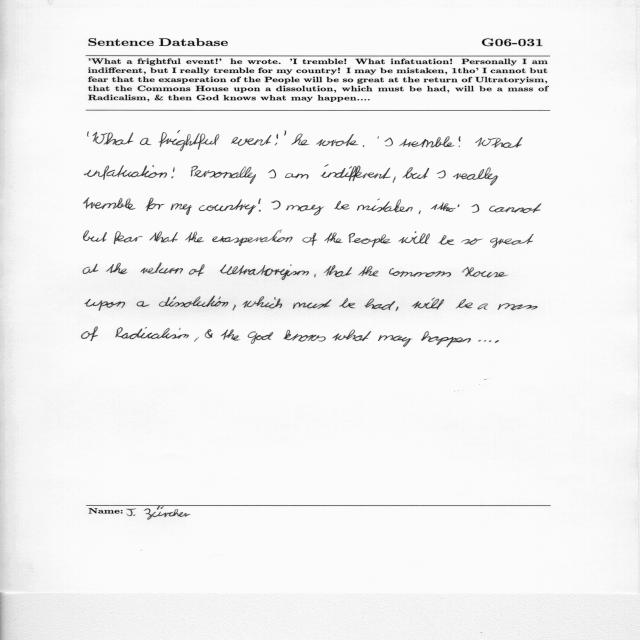word: (220, 264, 309, 280), (212, 230, 293, 246), (159, 131, 219, 152), (84, 165, 167, 180), (321, 165, 391, 182), (191, 166, 256, 184), (199, 199, 256, 215), (115, 327, 189, 339), (453, 168, 499, 186), (421, 331, 471, 347), (159, 296, 228, 307), (357, 199, 413, 212), (399, 136, 455, 148), (83, 198, 136, 210), (490, 234, 534, 248), (348, 233, 391, 247), (389, 268, 451, 277), (93, 132, 134, 145), (475, 137, 523, 148), (489, 203, 541, 213), (243, 296, 283, 309), (462, 267, 508, 278), (317, 134, 359, 146), (85, 299, 125, 311), (283, 330, 326, 341), (141, 263, 183, 274), (231, 135, 272, 146), (333, 330, 372, 341), (286, 205, 324, 216), (399, 231, 430, 244), (378, 335, 411, 347), (412, 298, 444, 310), (293, 299, 331, 309), (114, 231, 142, 244), (365, 299, 396, 310), (324, 265, 352, 277), (248, 331, 273, 344), (403, 167, 430, 179), (149, 232, 178, 243), (431, 202, 460, 212), (83, 230, 107, 242), (498, 303, 538, 310), (145, 198, 165, 211), (171, 203, 192, 215), (106, 263, 127, 274), (221, 329, 240, 341), (82, 327, 98, 341), (358, 266, 379, 276), (291, 134, 310, 145), (185, 232, 204, 243), (303, 233, 318, 246), (324, 233, 343, 243), (189, 264, 204, 276), (438, 235, 454, 245), (83, 264, 99, 274), (339, 298, 355, 308), (461, 238, 483, 245), (456, 299, 473, 308), (285, 173, 309, 179), (334, 201, 350, 210), (271, 201, 281, 210), (384, 138, 393, 147), (437, 170, 446, 179), (137, 301, 150, 307), (140, 138, 151, 145), (477, 303, 488, 310), (471, 204, 479, 213), (205, 330, 213, 339), (269, 169, 276, 178), (171, 167, 175, 178), (258, 198, 261, 212), (275, 134, 278, 145), (458, 136, 461, 147), (478, 340, 491, 342), (393, 176, 396, 183), (233, 305, 236, 311), (194, 338, 198, 342), (396, 306, 399, 311), (87, 131, 89, 137), (418, 210, 421, 214), (495, 340, 499, 343), (285, 131, 287, 136), (377, 136, 379, 139), (314, 274, 316, 277), (363, 145, 364, 147)
